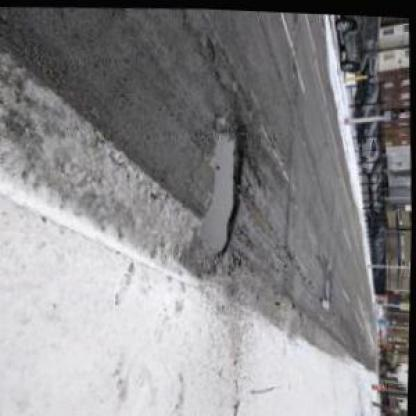pothole: (198, 111, 251, 256)
